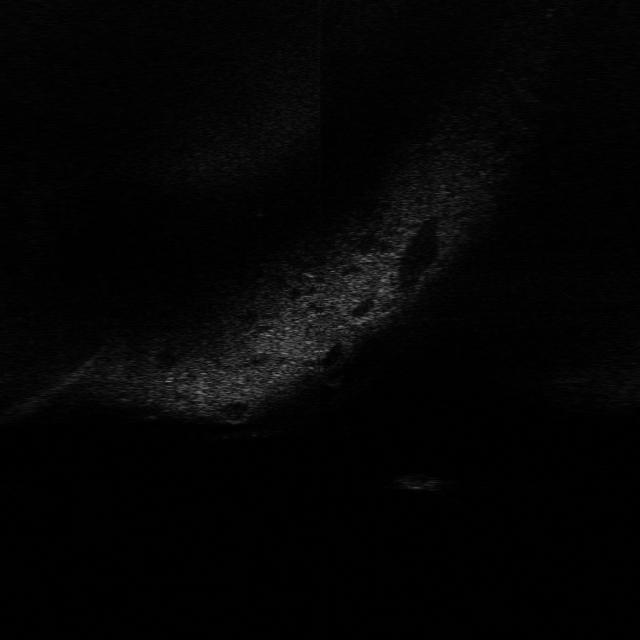ball: (318, 364, 349, 388)
cube: (389, 471, 452, 494)
